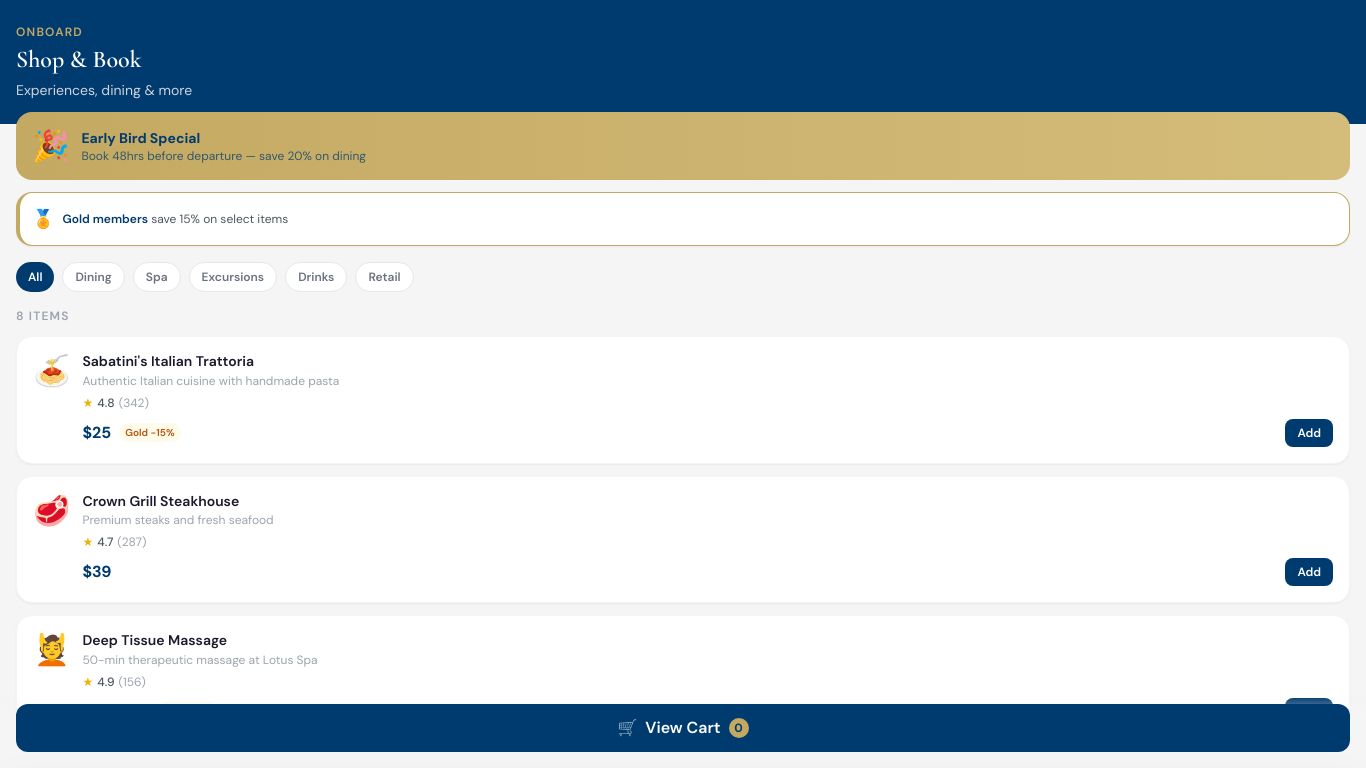
it: CommercePage › filters products by category
Click the button "Dining": (94, 277) [62,262,125,292]
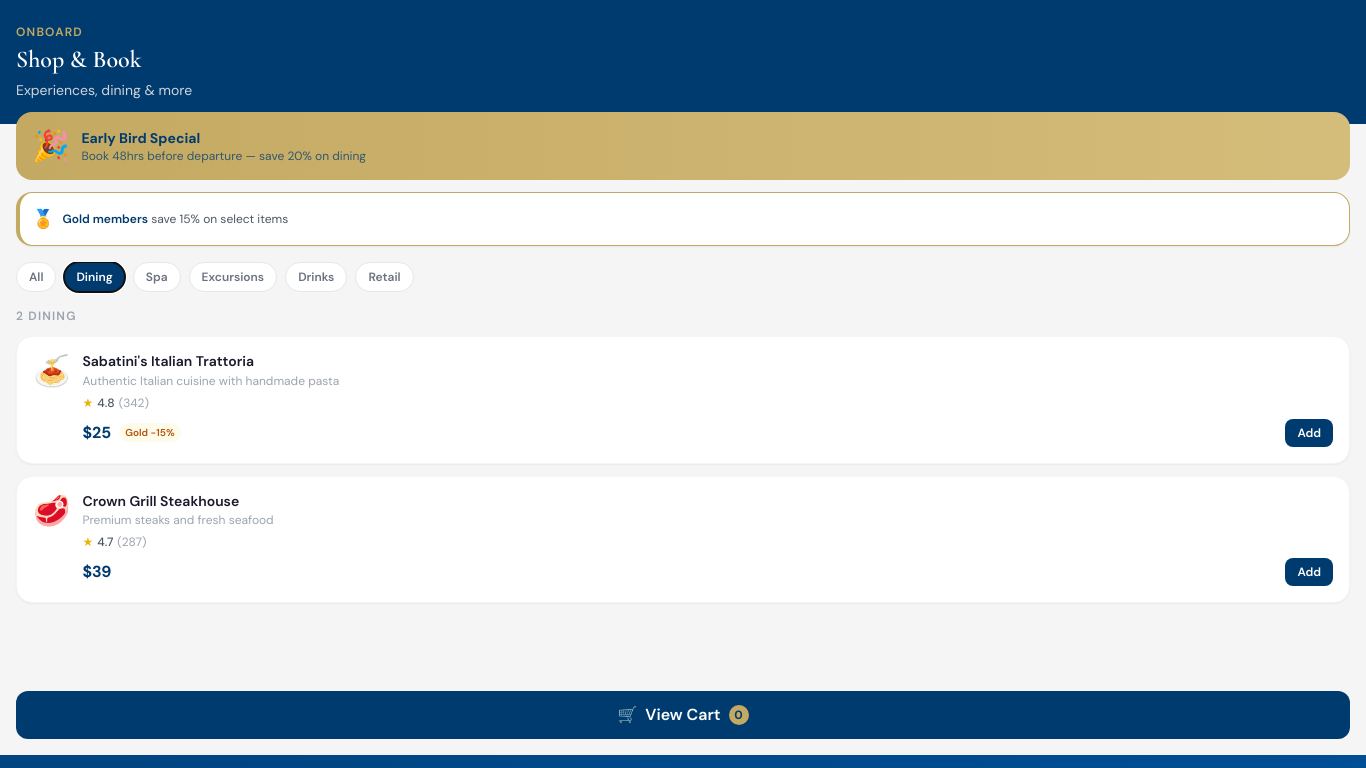
expect the text "Sabatini's Italian Trattoria" is shown: met, box [82,352,254,370]
expect the text "Deep Tissue Massage" is gone: met
